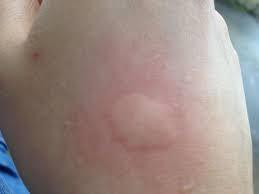Mosquito: (113, 93, 183, 161)
